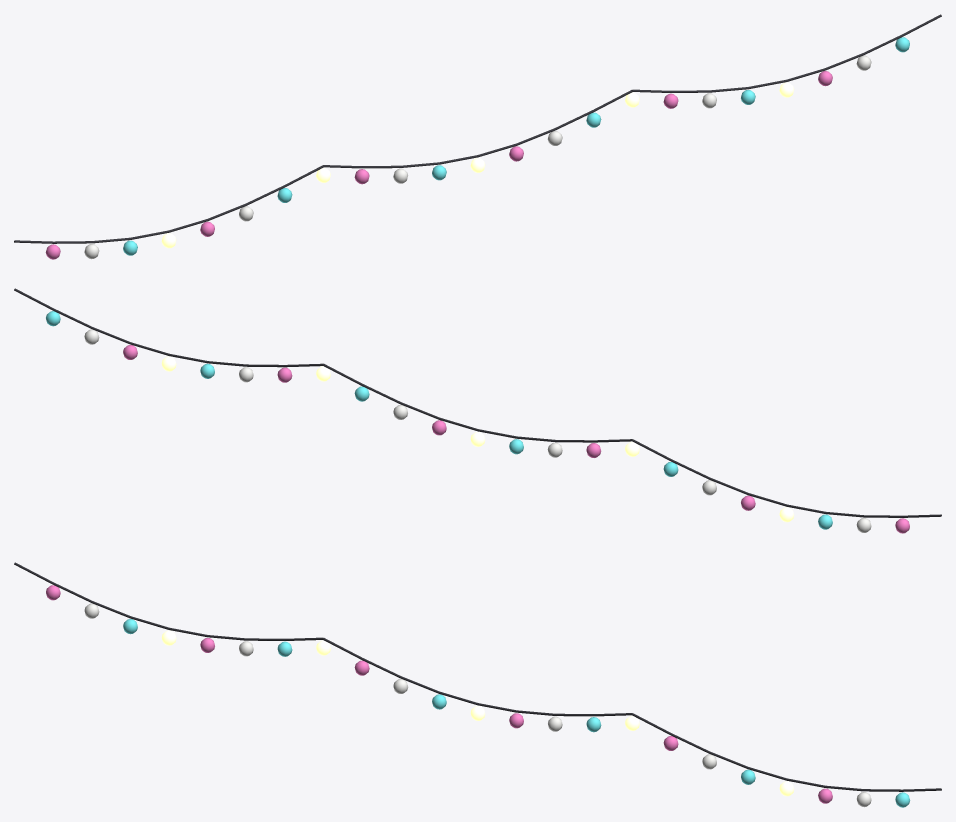
File: SM_FairyLights.fbx
3 renders of one model, top to bottom at view 1: azimuth 30°, elevation 25°; view 2: azimuth 150°, elevation 25°; view 3: azimuth 330°, elevation 25°, orthographic.
Parts seen in each view (by area): view 1: SM_FairyLights; view 2: SM_FairyLights; view 3: SM_FairyLights.
Boxes of the visible parts, bbox=[...] form: SM_FairyLights: bbox=[14, 14, 941, 259]; SM_FairyLights: bbox=[14, 288, 941, 533]; SM_FairyLights: bbox=[14, 562, 941, 807].
Size of the model in its own units: 4.2 by 0.1946 by 0.06.
